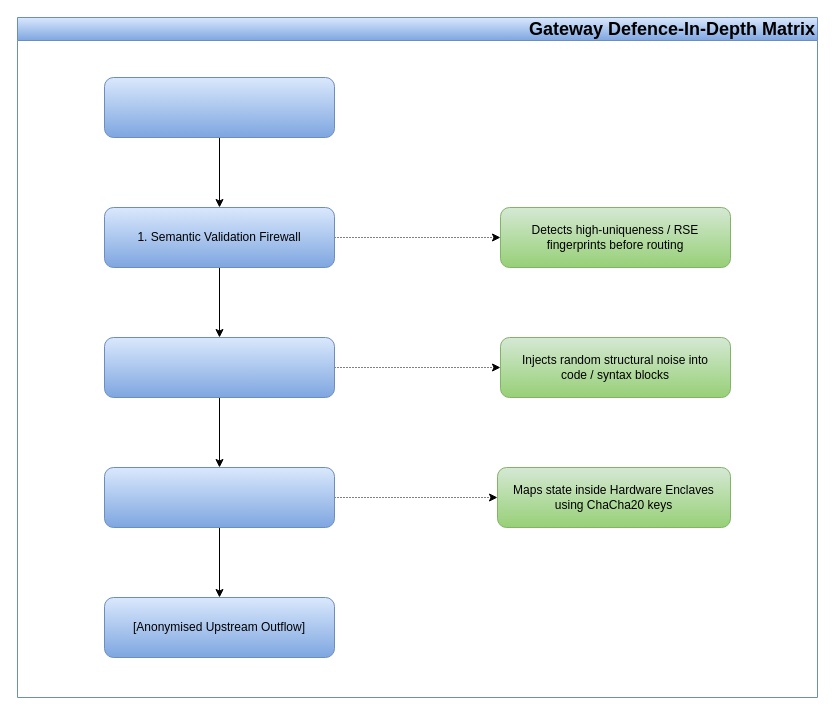
This 835x715 diagram has some shape labels left out. Each missing label, with the centre of its shape:
2. Differential Privacy Layer: the point at 219,367
3. Cryptographic Token Vault: the point at 219,497
[Ingressed User Prompt: the point at 219,107
